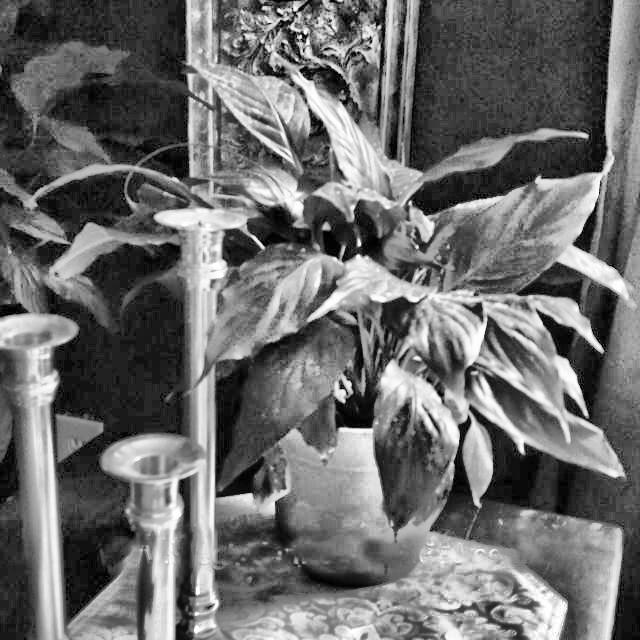plants: (41, 55, 640, 588), (520, 388, 631, 496), (38, 214, 178, 284), (440, 382, 509, 500), (298, 414, 348, 469), (247, 453, 290, 516)
